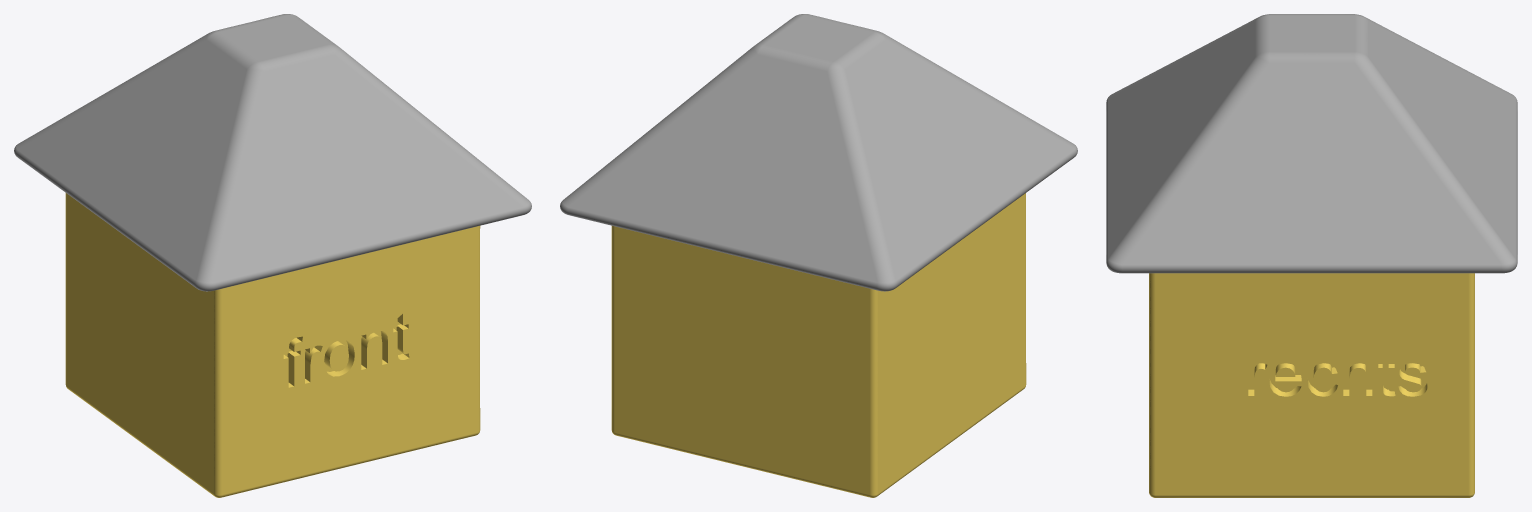
Rendered from house_color.obj.
3 views of the same model, side by side, from view 1: azimuth 30°, elevation 25°; view 2: azimuth 150°, elevation 25°; view 3: azimuth 270°, elevation 25° (orthographic). The views are drawn at different scales.
Visible parts, largest first — view 1: object_1, object_2; view 2: object_1, object_2; view 3: object_2, object_1.
Part boxes in pixels (x1,y1,x2,y2): object_1: [65, 193, 480, 497]; object_2: [14, 14, 531, 291]; object_1: [611, 193, 1026, 497]; object_2: [560, 14, 1077, 291]; object_2: [1106, 14, 1517, 273]; object_1: [1149, 273, 1474, 497].
Bounding box in the file's own units: 63.05 × 67.19 × 63.05.
